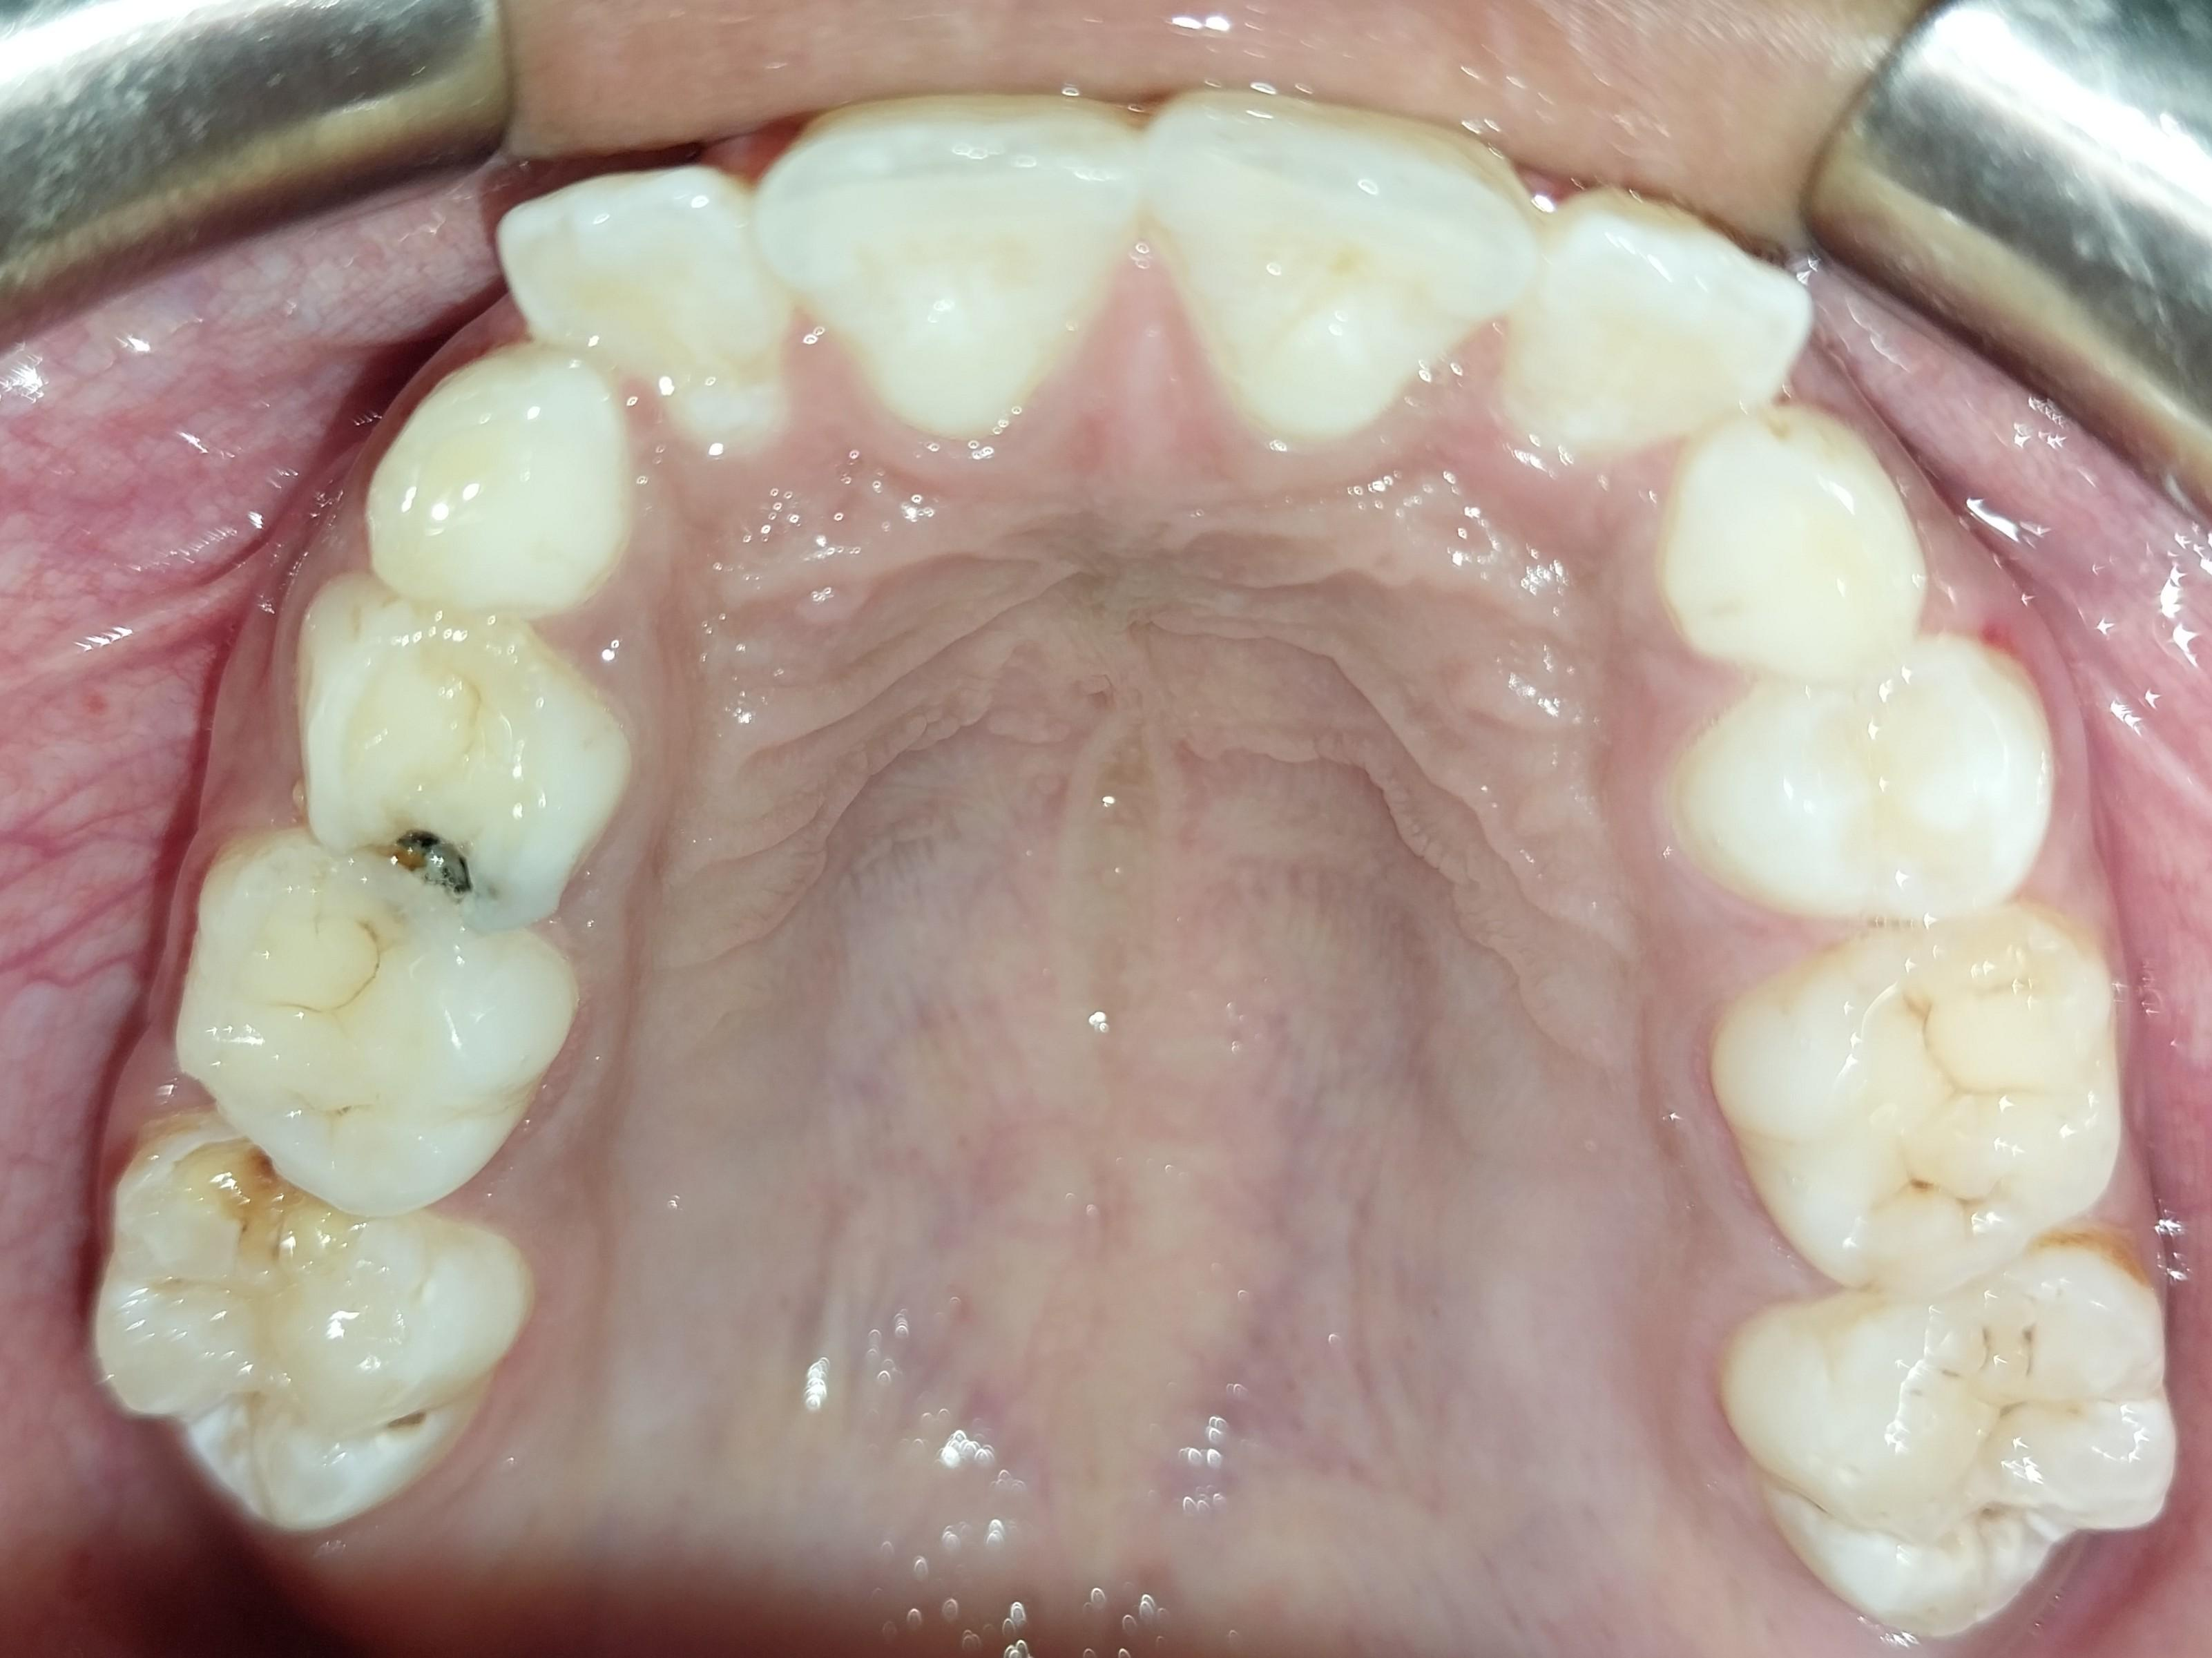D: (102, 1134, 524, 1556), (1724, 1263, 2171, 1643)
d: (1704, 924, 2133, 1280), (291, 599, 625, 915)
